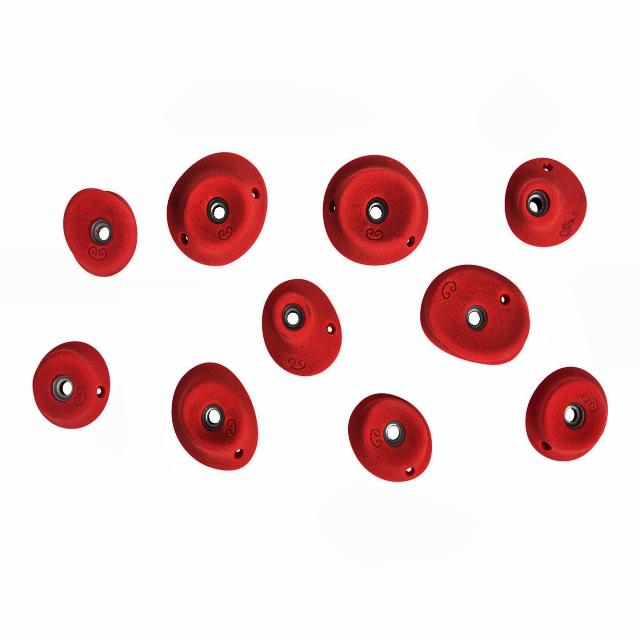Hold: (164, 150, 268, 267), (324, 154, 428, 265), (420, 264, 530, 366), (169, 363, 257, 472), (524, 364, 611, 462), (262, 279, 342, 376), (348, 392, 430, 484), (504, 156, 586, 247), (30, 339, 112, 426), (62, 188, 137, 280)
